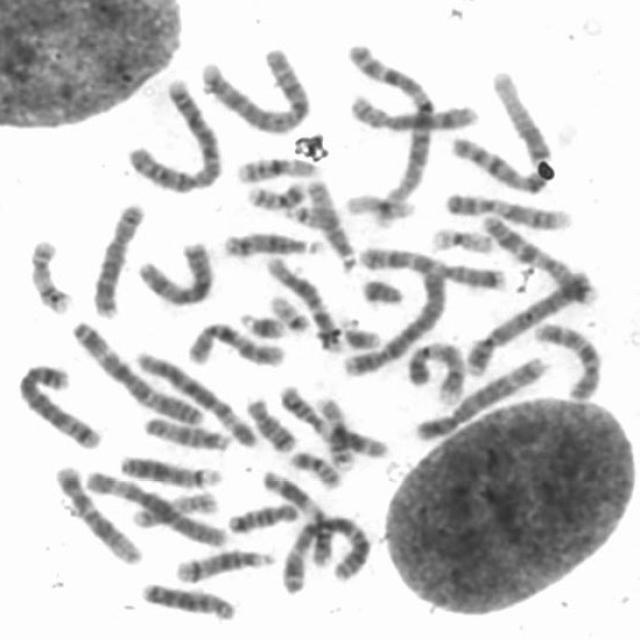A1: (340, 34, 438, 222), (447, 66, 557, 197)
A2: (122, 72, 226, 194), (194, 41, 314, 136)
A3: (68, 316, 208, 428), (275, 507, 374, 596)
B4: (460, 266, 597, 378), (337, 263, 449, 378)
B5: (411, 350, 552, 443), (10, 358, 104, 451)
C10: (529, 314, 606, 402), (183, 317, 288, 368)
C11: (273, 379, 393, 460), (254, 464, 339, 568)
C12: (51, 460, 145, 566), (261, 250, 345, 354)
C6: (132, 347, 260, 450), (80, 466, 232, 548)
C7: (479, 208, 599, 308), (354, 239, 508, 291)
C8: (88, 197, 150, 320), (343, 90, 481, 133)
C9: (440, 186, 574, 232), (401, 337, 467, 406)
D13: (135, 577, 238, 622), (115, 451, 225, 489)
D14: (170, 544, 278, 584), (219, 226, 325, 260)
D15: (302, 173, 361, 271), (139, 411, 233, 452)
E16: (311, 393, 358, 471), (232, 151, 319, 184)
E17: (24, 232, 76, 316), (127, 488, 219, 530)
E18: (239, 390, 297, 454), (222, 497, 300, 535)
F19: (340, 188, 415, 222), (426, 224, 496, 256)
F20: (285, 448, 345, 490), (244, 177, 306, 210)
G21: (336, 312, 384, 351), (234, 307, 289, 341)
G22: (264, 288, 314, 334), (280, 199, 340, 231)
X: (132, 235, 218, 309)
Y: (358, 274, 407, 307)
